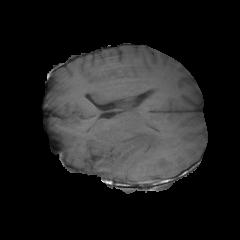glioma: (99, 120, 184, 175)
